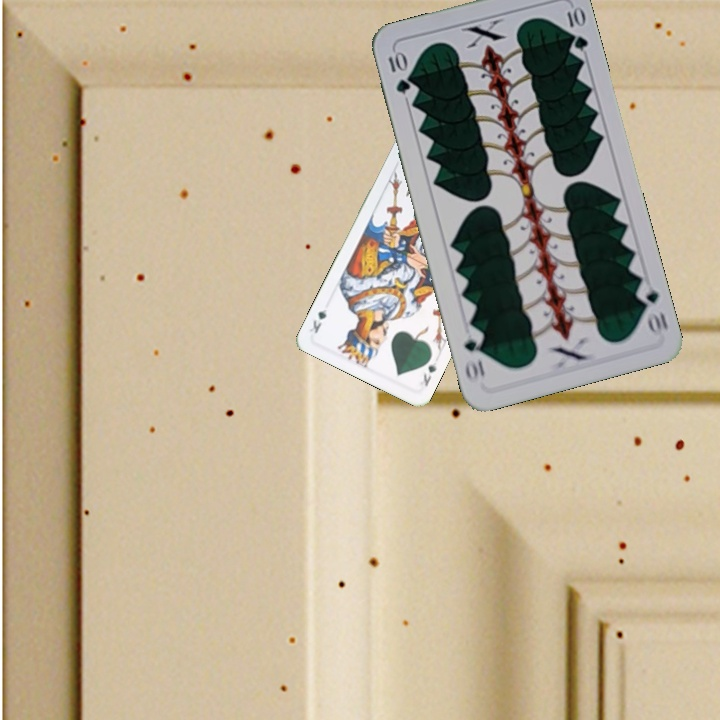G10: (632, 278, 670, 338), (384, 47, 413, 96)
GK: (419, 357, 439, 389)
